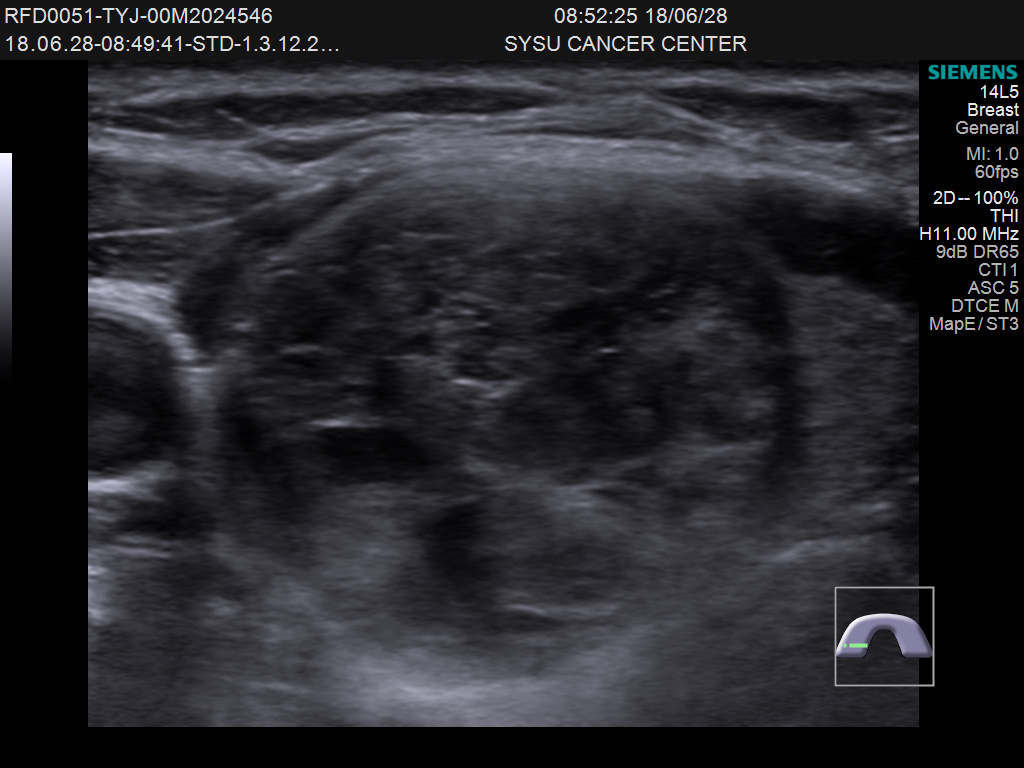Thyroid_tumor: (221, 131, 814, 675)
